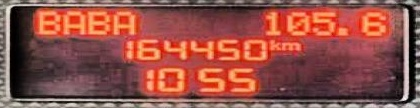-: (335, 25, 352, 37)
0: (155, 65, 183, 92), (284, 9, 310, 36), (239, 37, 267, 61)
1: (260, 8, 282, 36), (142, 65, 153, 92), (122, 38, 134, 62)
4: (162, 38, 186, 61), (189, 37, 213, 60)
5: (195, 65, 225, 92), (226, 66, 255, 93), (310, 9, 334, 35), (215, 38, 239, 61)
6: (359, 10, 389, 37), (135, 37, 158, 60)
X: (111, 8, 138, 35), (35, 8, 61, 35), (85, 8, 108, 35), (61, 9, 84, 35), (280, 40, 299, 51), (266, 37, 279, 50)
